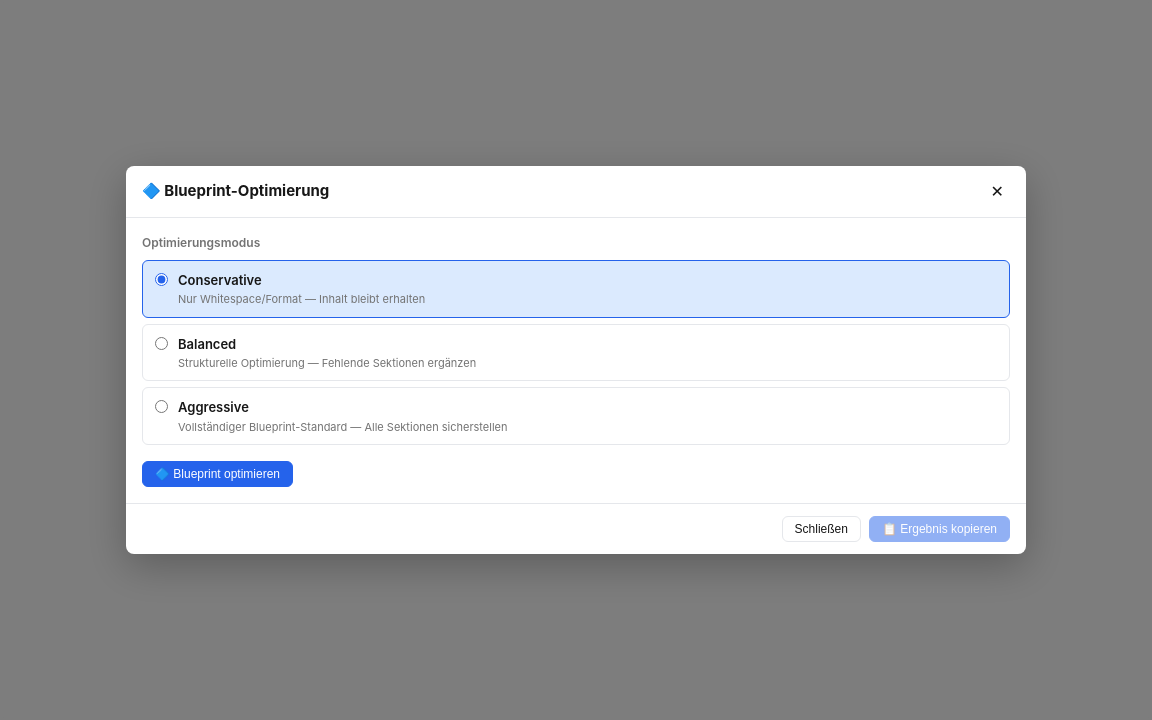
Test: BlueprintOptimizationPanel › mode selection › updates selected mode when clicking aggressive
Click the text "Aggressive" at (213, 407), box x1=178 y1=399 x2=249 y2=415
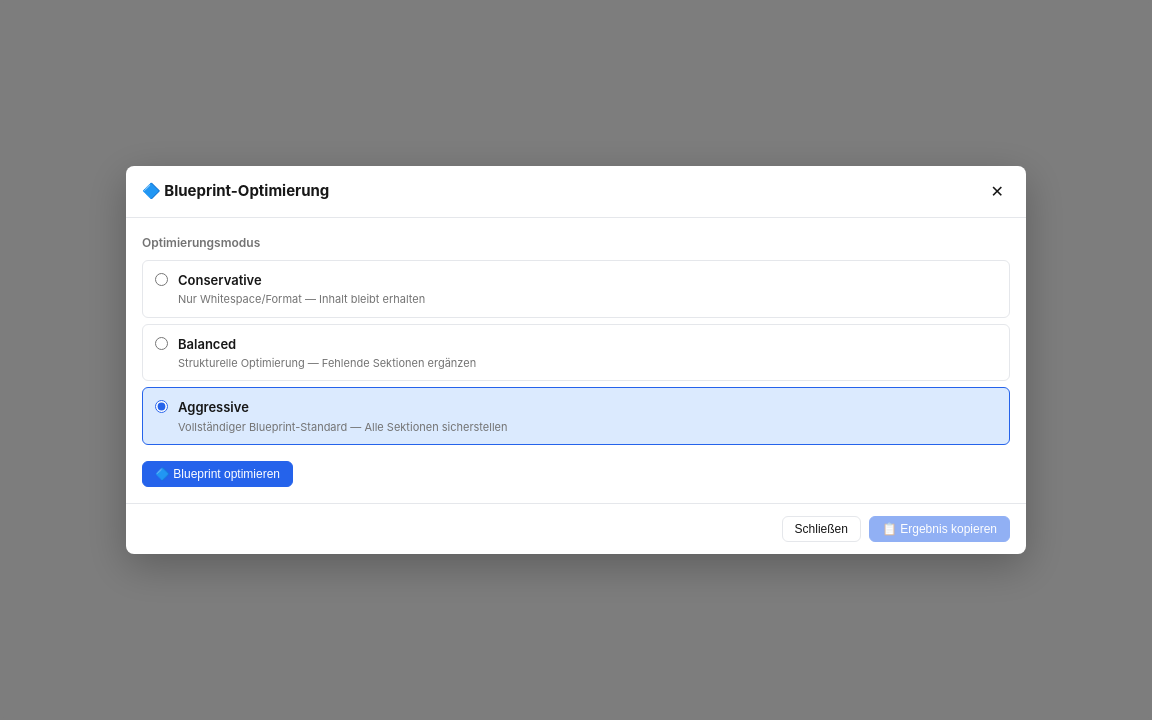
Result: the radio button named "blueprintOptimizationMode" is checked at x1=155 y1=400 x2=168 y2=413
